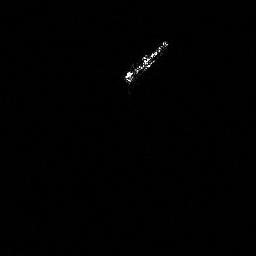ship: (120, 38, 171, 89)
